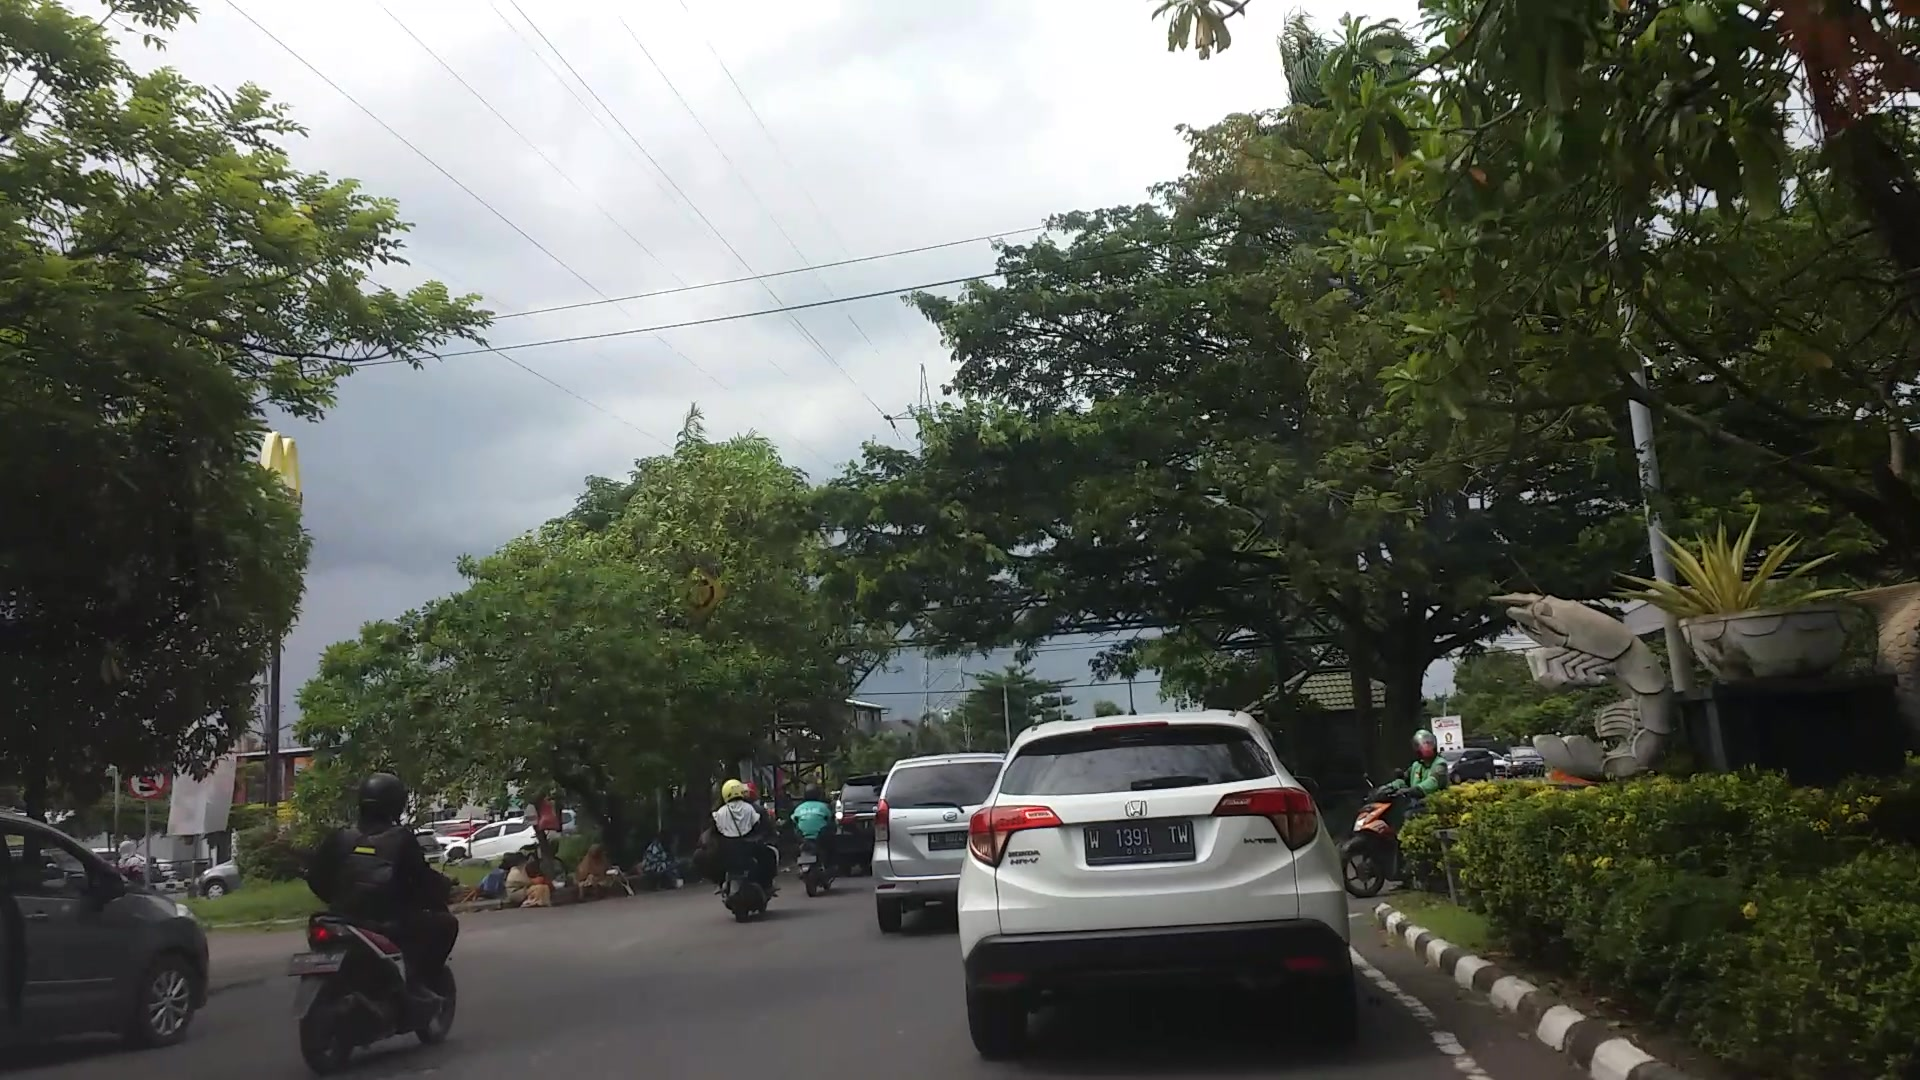plate_positive: (1085, 822, 1195, 865)
